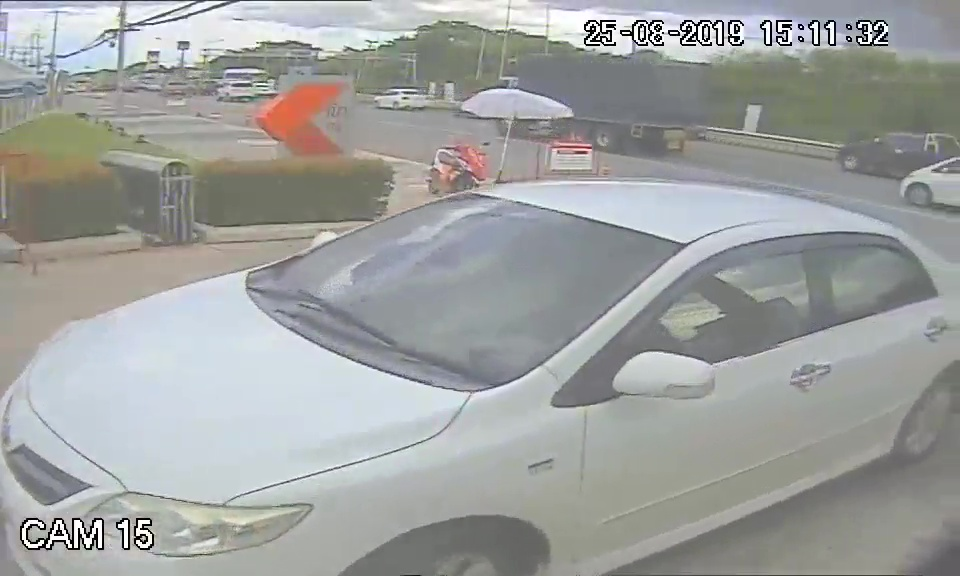sedan: (11, 182, 756, 559)
